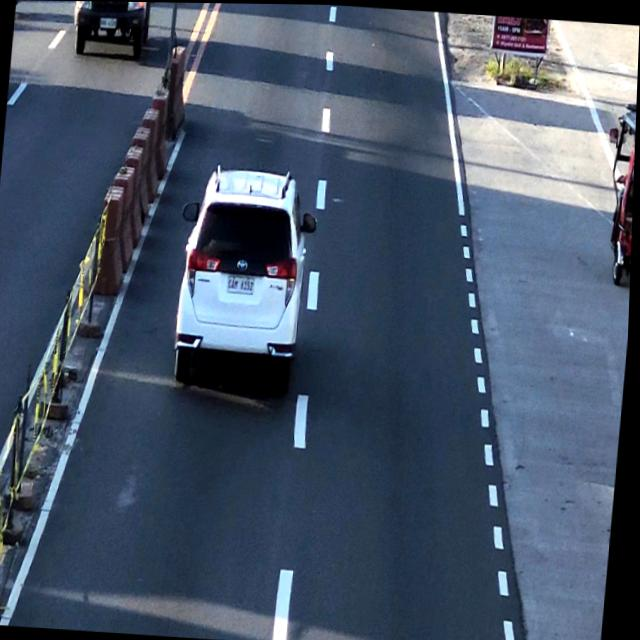Car: (172, 164, 315, 385)
License-Plate: (226, 270, 261, 296)
